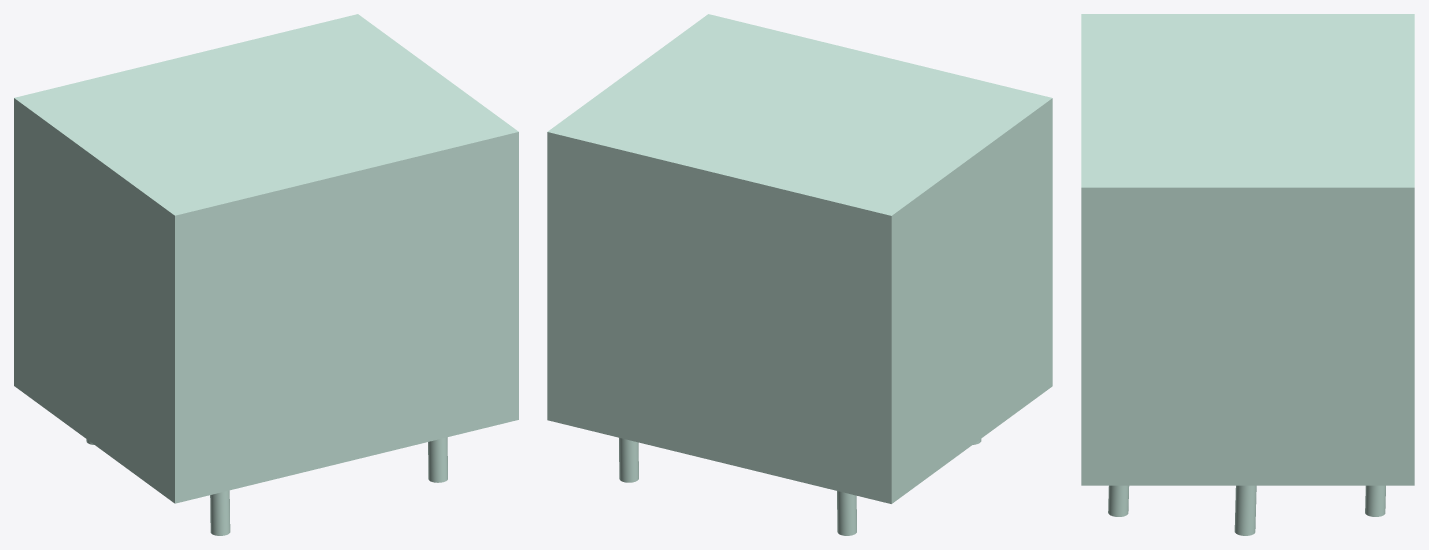
The picture shows the model from 3 angles, left to right: view 1: azimuth 30°, elevation 25°; view 2: azimuth 150°, elevation 25°; view 3: azimuth 270°, elevation 25°; orthographic projection. The views are drawn at different scales.
Parts seen in each view (by area): view 1: Renderer Node; view 2: Renderer Node; view 3: Renderer Node.
Boxes of the visible parts, bbox=[...] form: Renderer Node: bbox=[14, 14, 518, 535]; Renderer Node: bbox=[547, 14, 1052, 535]; Renderer Node: bbox=[1081, 14, 1414, 535].
Size of the model in its own units: 0.9375 by 0.8984 by 0.7599.
